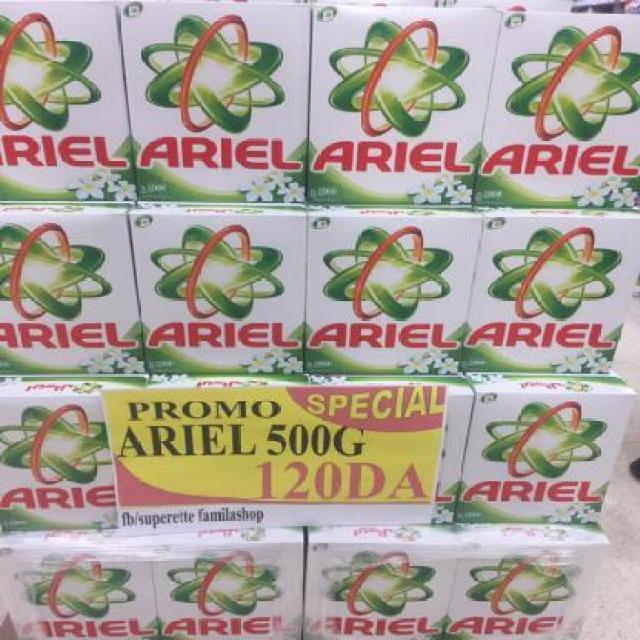Detergent: (122, 0, 302, 206), (308, 3, 477, 203), (478, 9, 640, 203), (136, 209, 304, 380), (309, 202, 471, 374), (0, 0, 134, 204), (472, 211, 629, 377), (469, 368, 620, 524), (0, 211, 137, 379), (0, 368, 115, 536), (456, 515, 599, 639), (306, 521, 453, 640), (153, 529, 305, 640), (0, 532, 151, 640)
